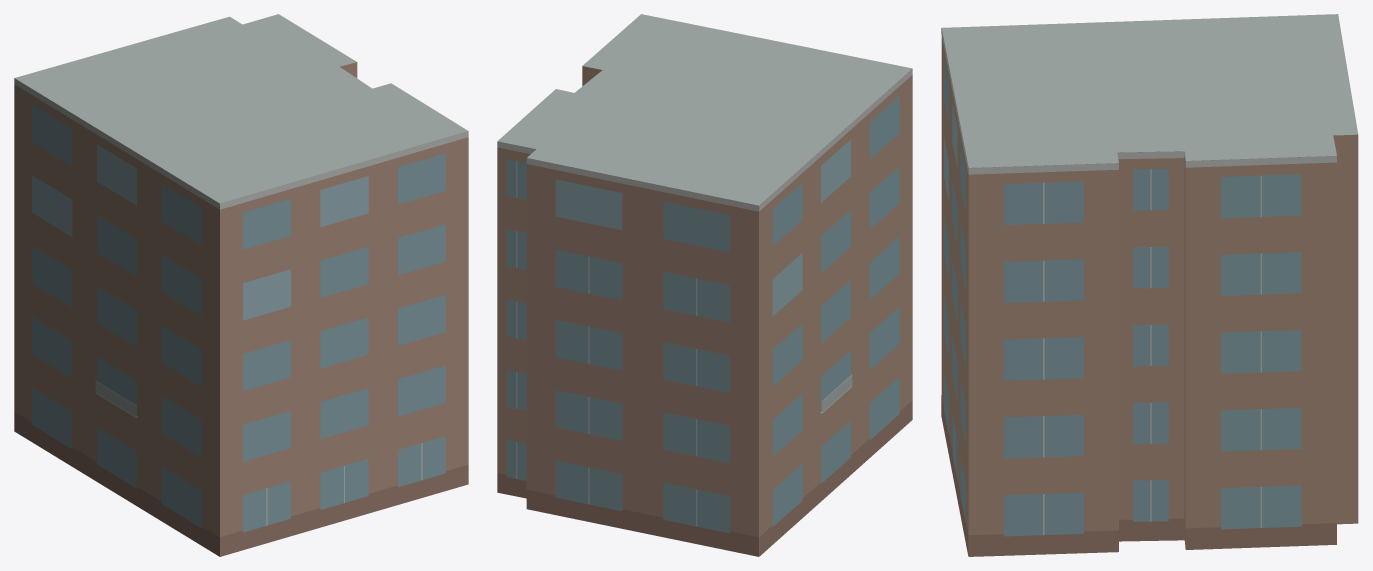
File: survey-upis-32621549.glb
3 renders of one model, left to right at view 1: azimuth 30°, elevation 25°; view 2: azimuth 150°, elevation 25°; view 3: azimuth 270°, elevation 25°, orthographic. The views are drawn at different scales.
Parts seen in each view (by area): view 1: survey-upis-32621549.tmp; view 2: survey-upis-32621549.tmp; view 3: survey-upis-32621549.tmp.
Part boxes in pixels (<box>): survey-upis-32621549.tmp: <box>14,14,468,556</box>; survey-upis-32621549.tmp: <box>497,14,912,556</box>; survey-upis-32621549.tmp: <box>941,14,1358,556</box>.
Bounding box in the file's own units: 11.97 × 14.1 × 13.7.
